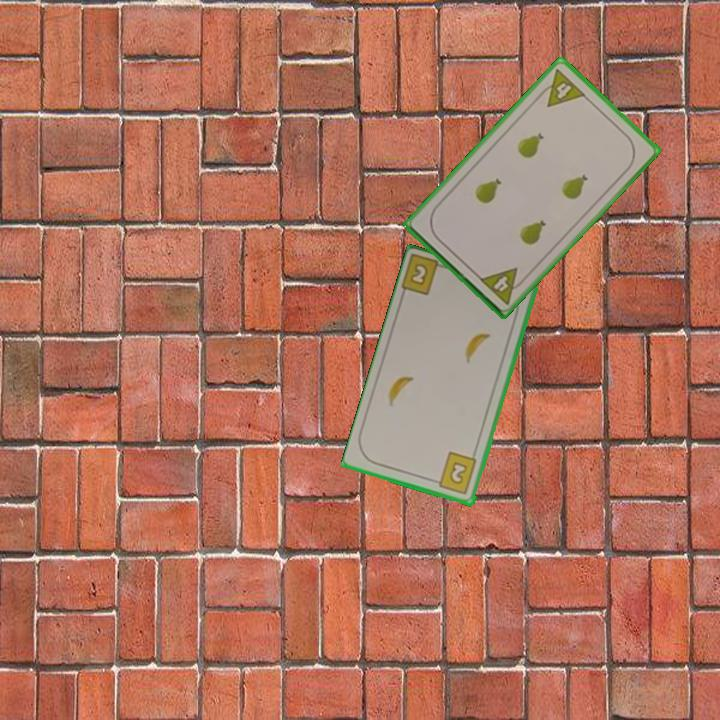2b: (399, 253, 452, 299), (430, 449, 480, 497)
4p: (534, 65, 588, 110), (476, 264, 529, 307)
